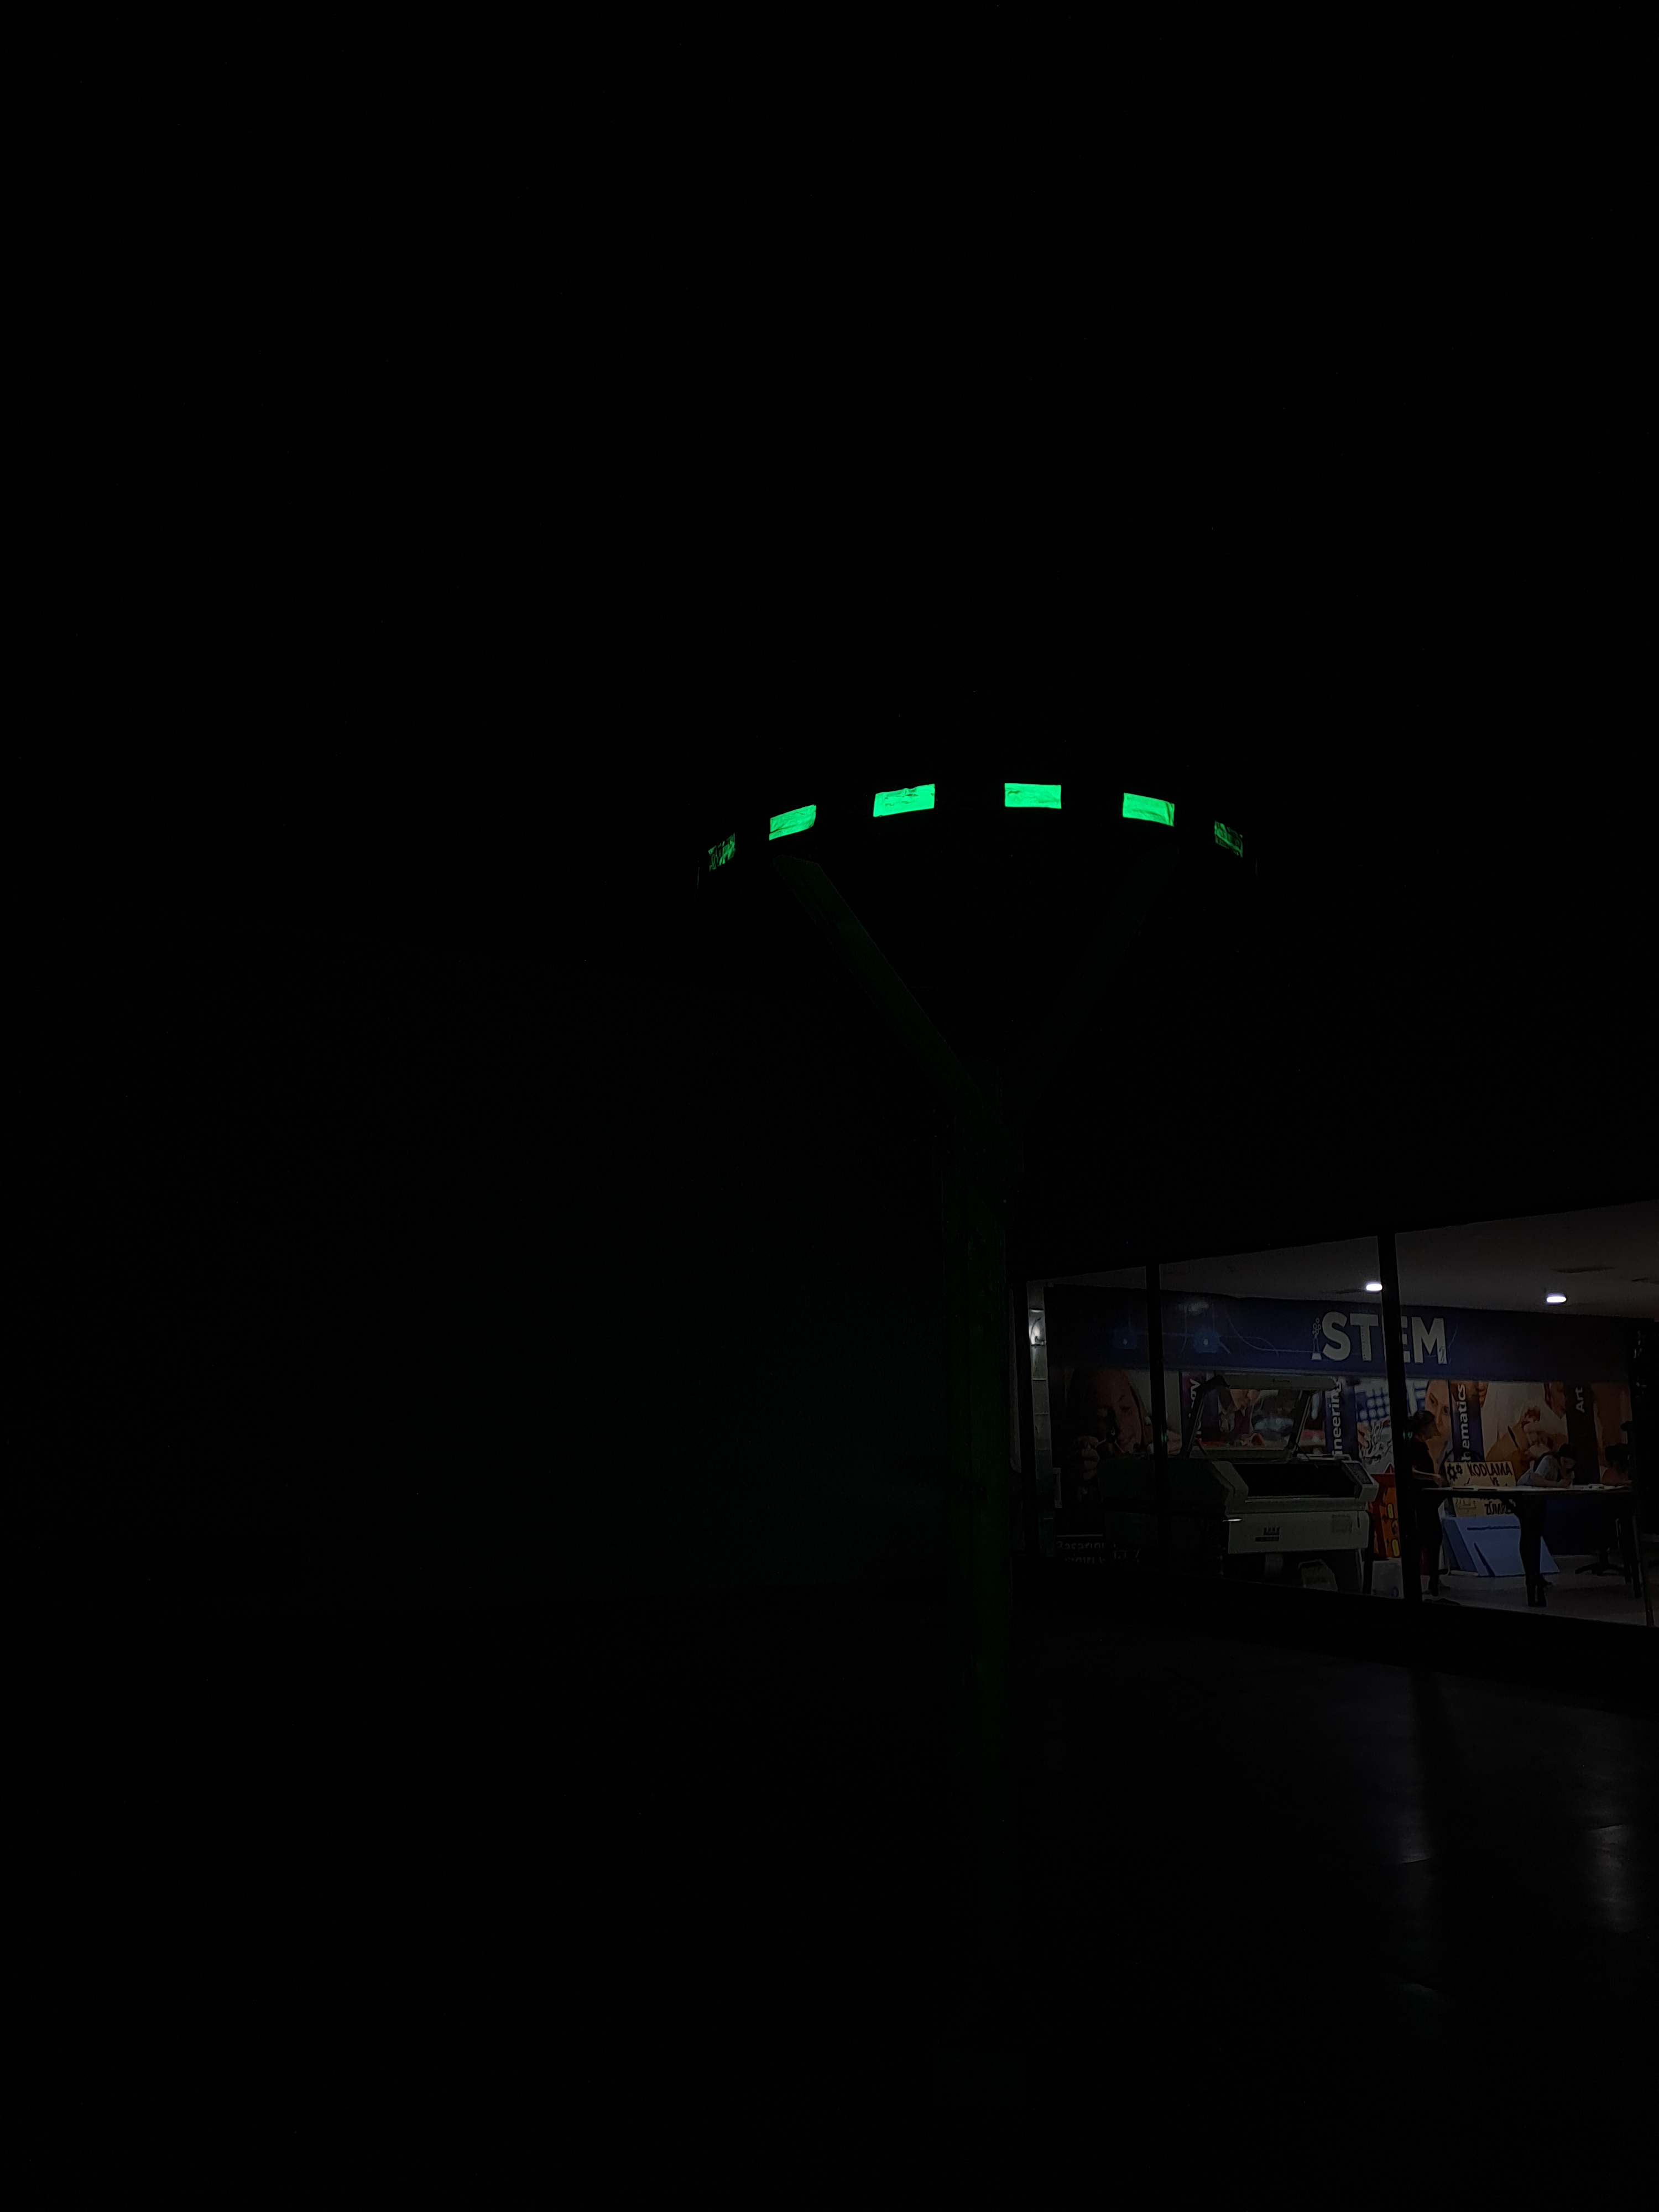hoop: (702, 779, 1246, 880)
